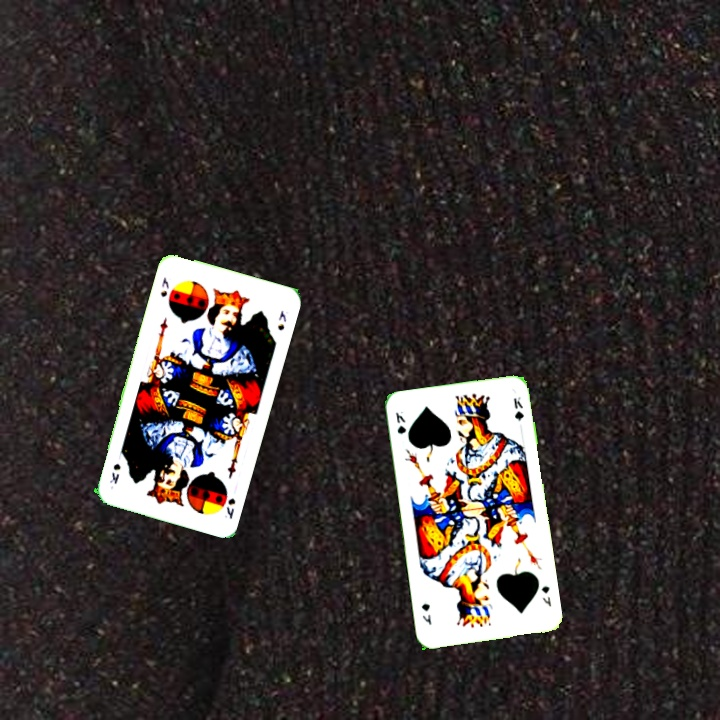GK: (391, 407, 409, 437), (537, 582, 554, 609)
SK: (220, 494, 238, 522), (156, 273, 171, 300)
